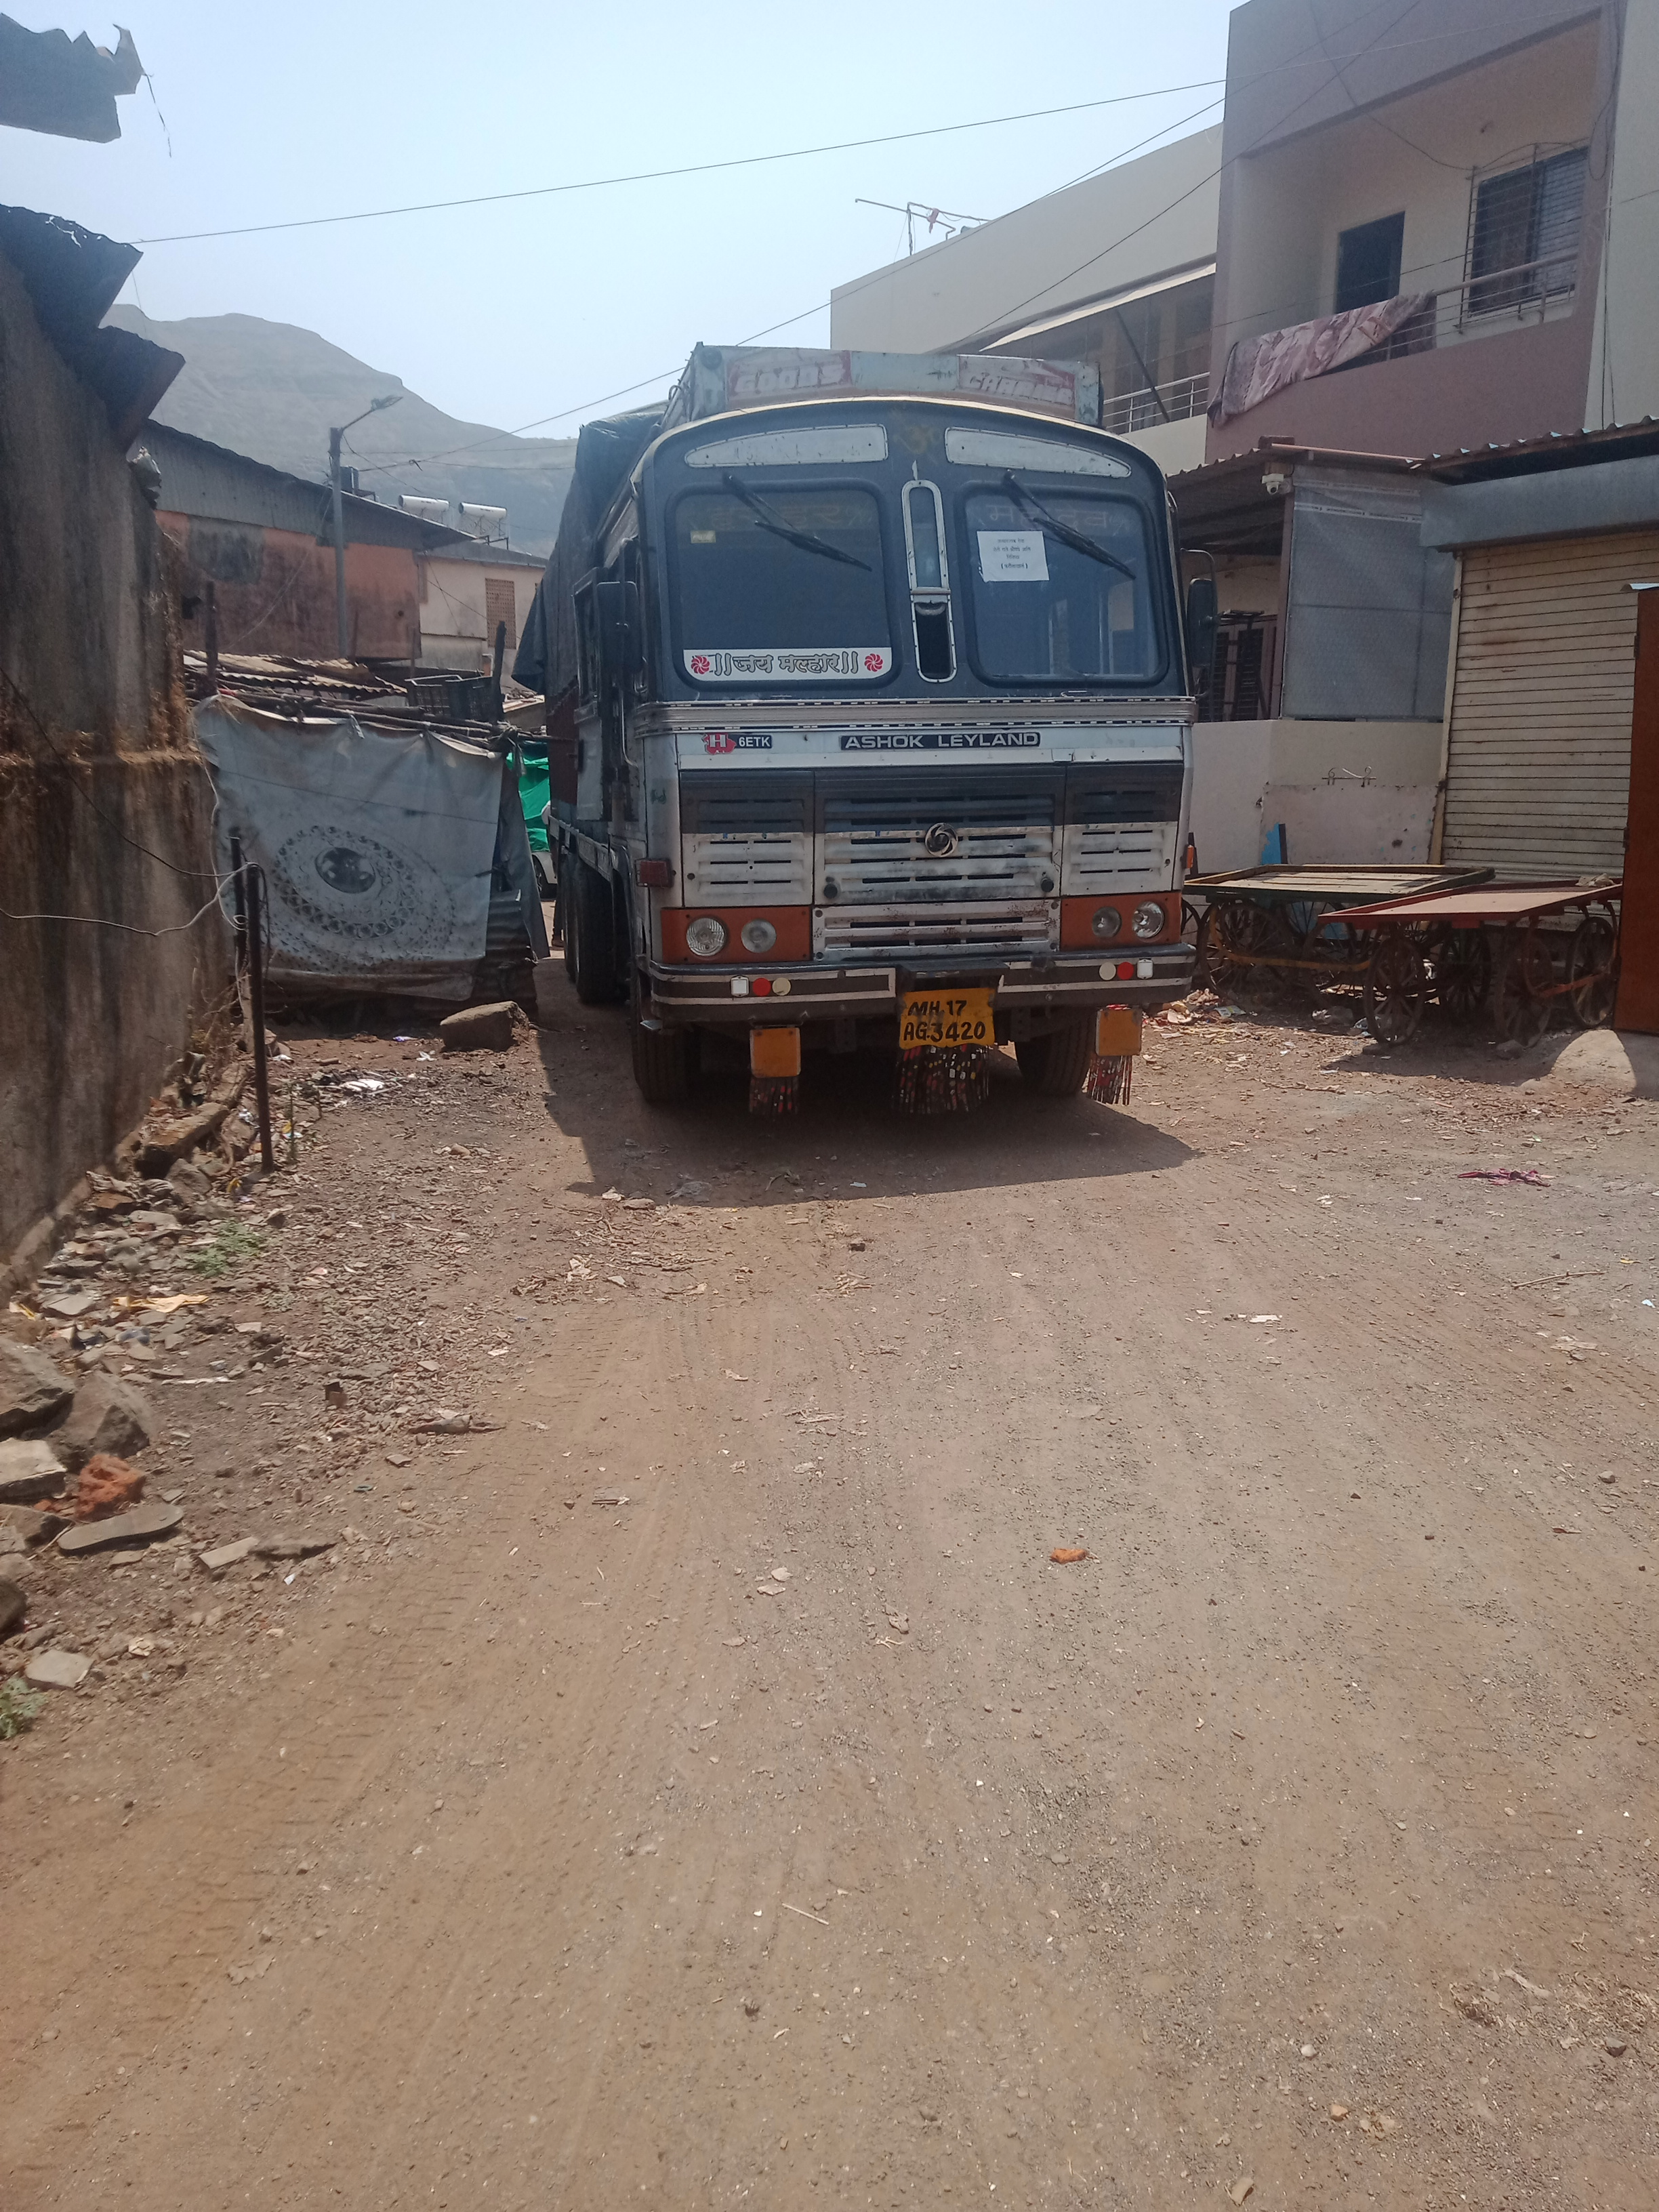truck: (509, 326, 1227, 1115)
